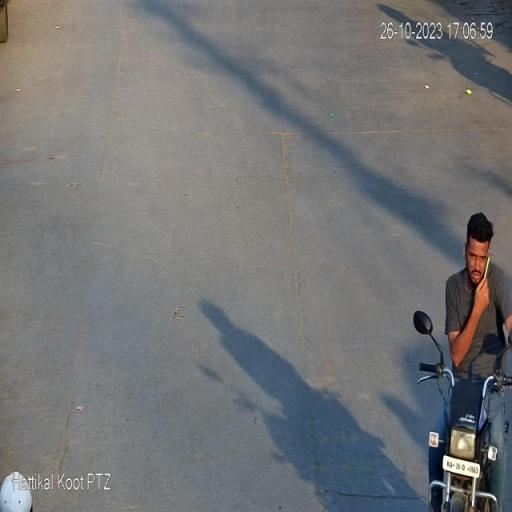using mobile: (472, 248, 494, 292)
